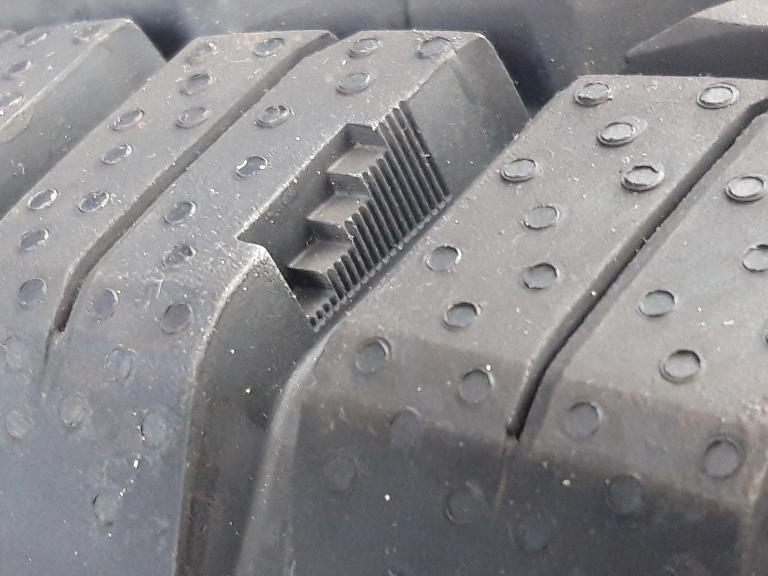temoin:100: (228, 95, 458, 339)
